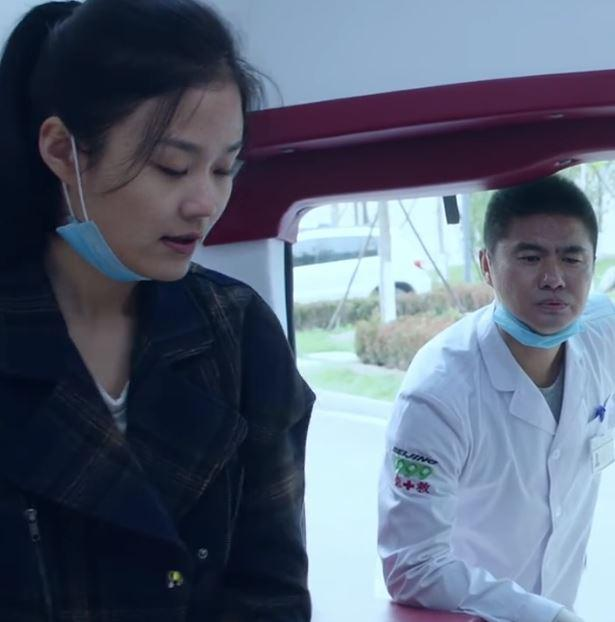WRONG: (73, 112, 245, 287), (501, 228, 591, 339)
